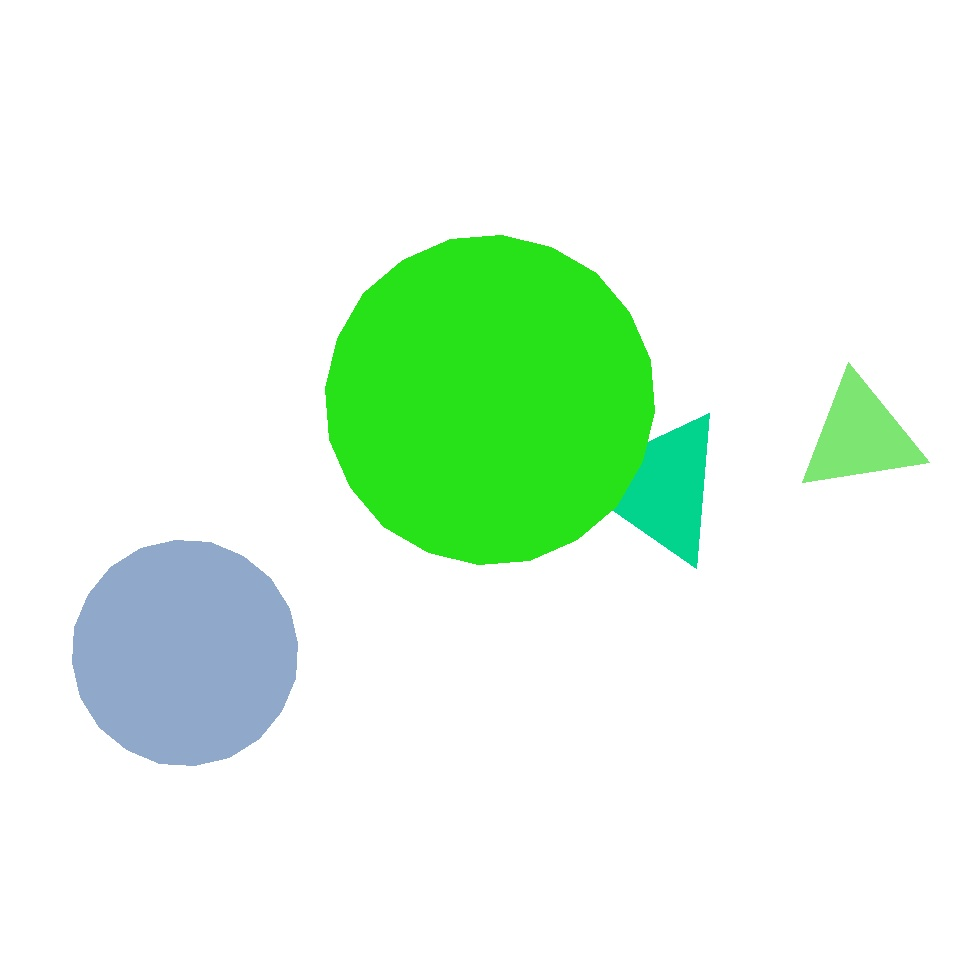circle: (588, 410, 728, 564), (796, 376, 924, 496)
square: (552, 726, 706, 880), (662, 554, 798, 688), (210, 404, 306, 498)
triangle: (414, 562, 772, 920), (325, 236, 654, 564), (73, 540, 298, 766), (82, 410, 184, 512)
